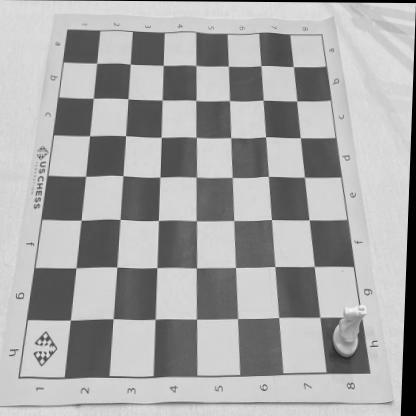white-knight: (334, 304, 370, 358)
